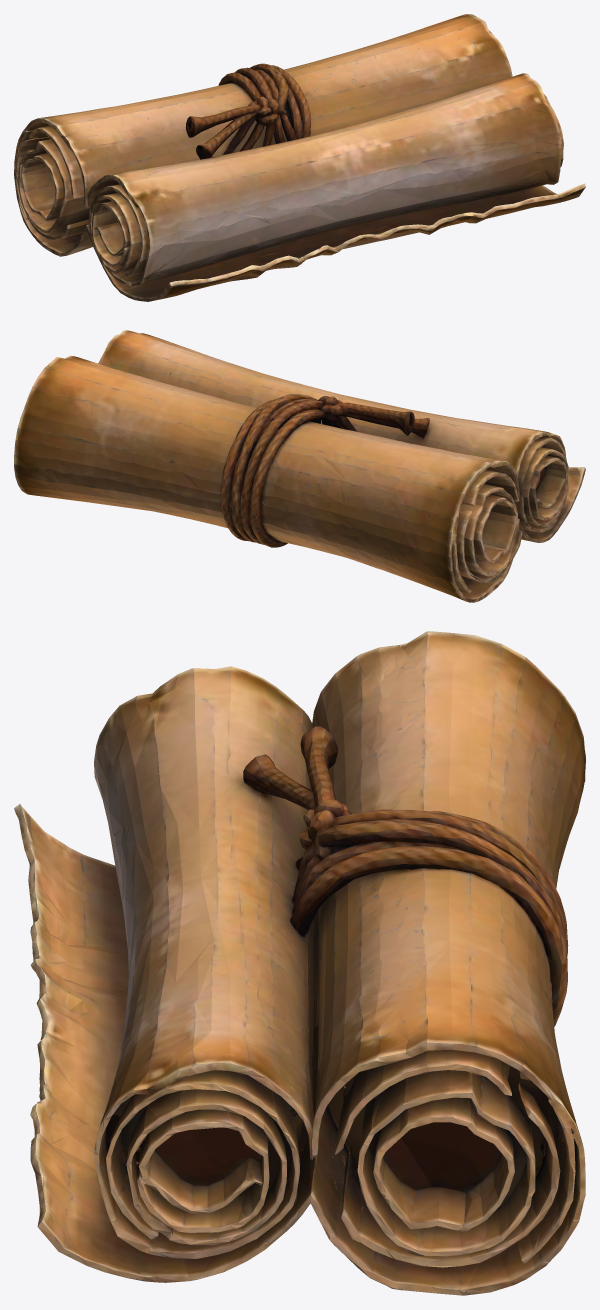
Rendered from dress-scroll.glb.
3 views of the same model, one above another, from view 1: azimuth 30°, elevation 25°; view 2: azimuth 150°, elevation 25°; view 3: azimuth 270°, elevation 25° (orthographic). The views are drawn at different scales.
Bounding box in the file's own units: 0.9998 × 0.2828 × 0.5506.
1 material, 1 textured.
